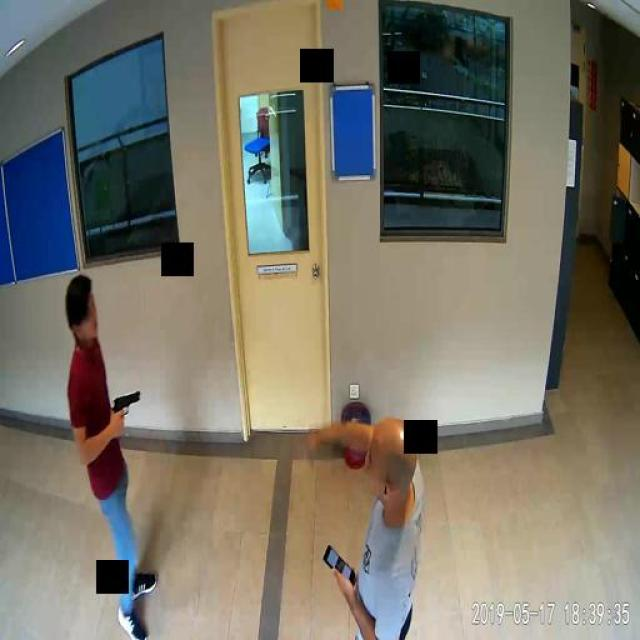gun: (110, 388, 139, 430)
